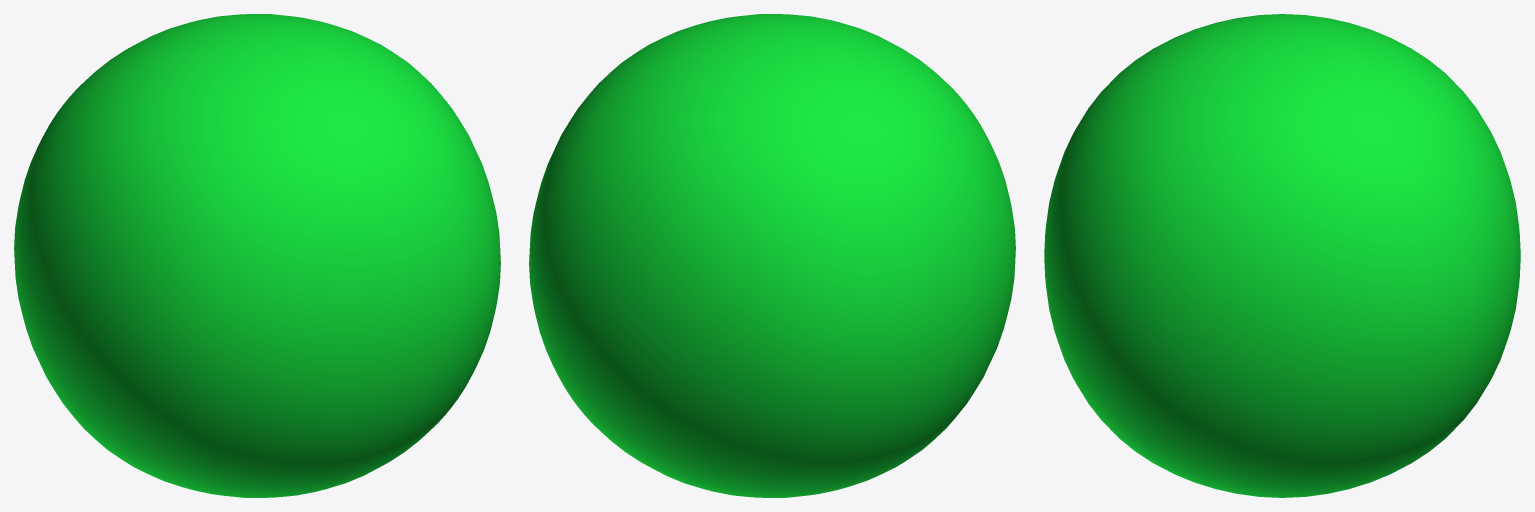
The model's file is bola.glb.
3 views of the same model, side by side, from view 1: azimuth 30°, elevation 25°; view 2: azimuth 150°, elevation 25°; view 3: azimuth 270°, elevation 25° (orthographic).
Parts seen in each view (by area): view 1: Cube; view 2: Cube; view 3: Cube.
Part boxes in pixels (x1,y1,x2,y2): Cube: (14, 14, 500, 497); Cube: (529, 14, 1015, 497); Cube: (1044, 14, 1520, 497).
Bounding box in the file's own units: 0.3373 × 0.3373 × 0.3373.
